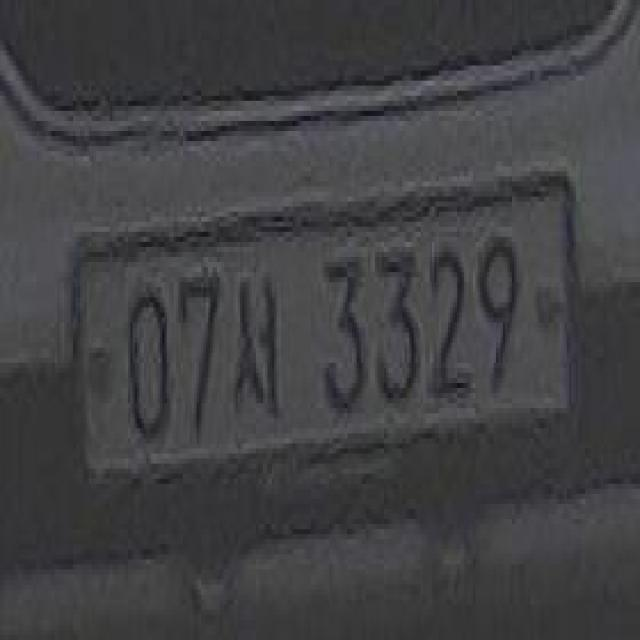illegal_plate: (80, 184, 579, 492)
